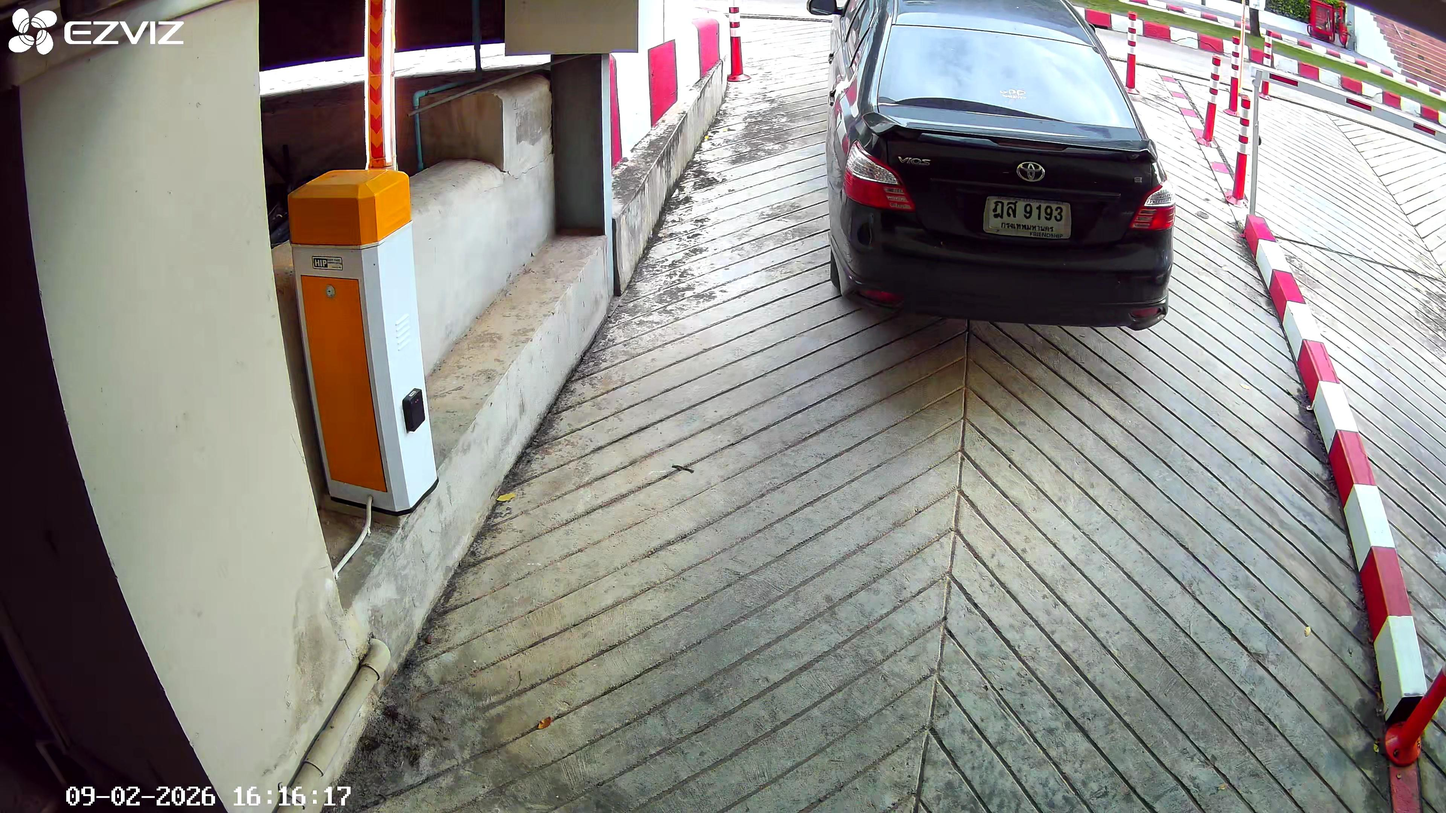car: (826, 3, 1176, 314)
license-plate: (981, 190, 1074, 242)
